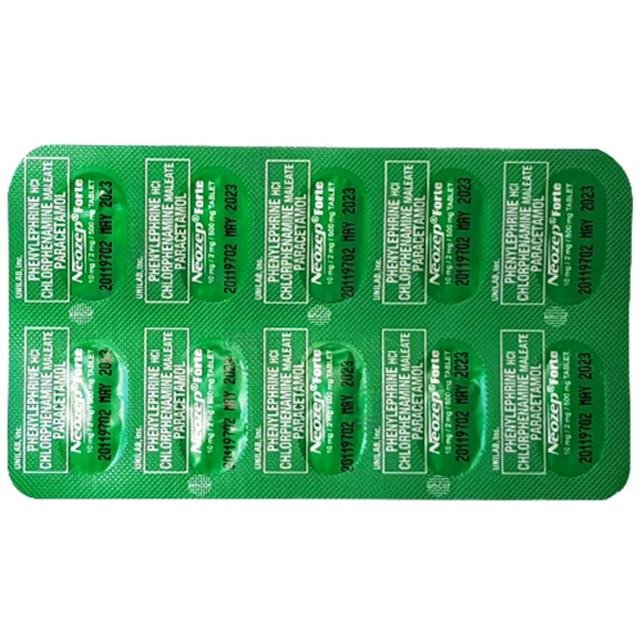blister: (7, 133, 633, 503)
